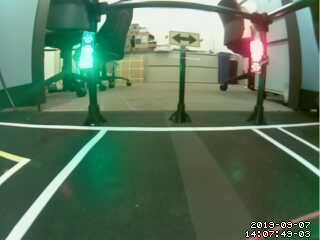Left_Right_sign: (169, 30, 201, 48)
Traffic_light_green: (82, 31, 93, 68)
Traffic_light_red: (252, 36, 266, 74)
